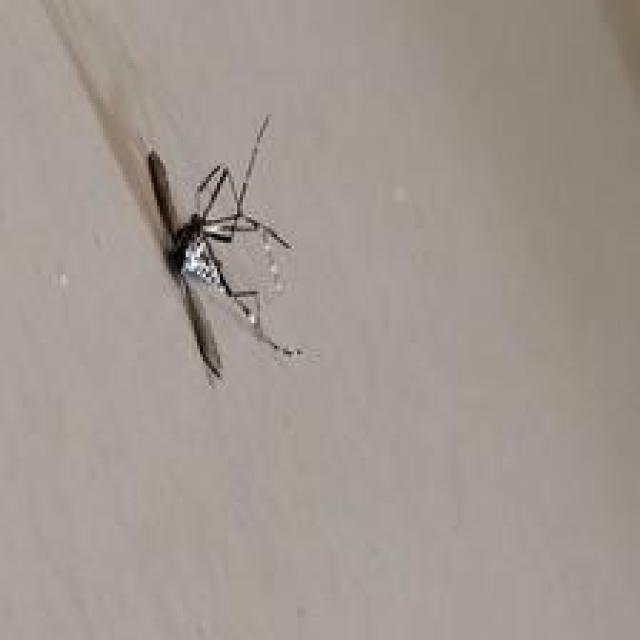Aedes albopictus: (143, 113, 314, 384)
